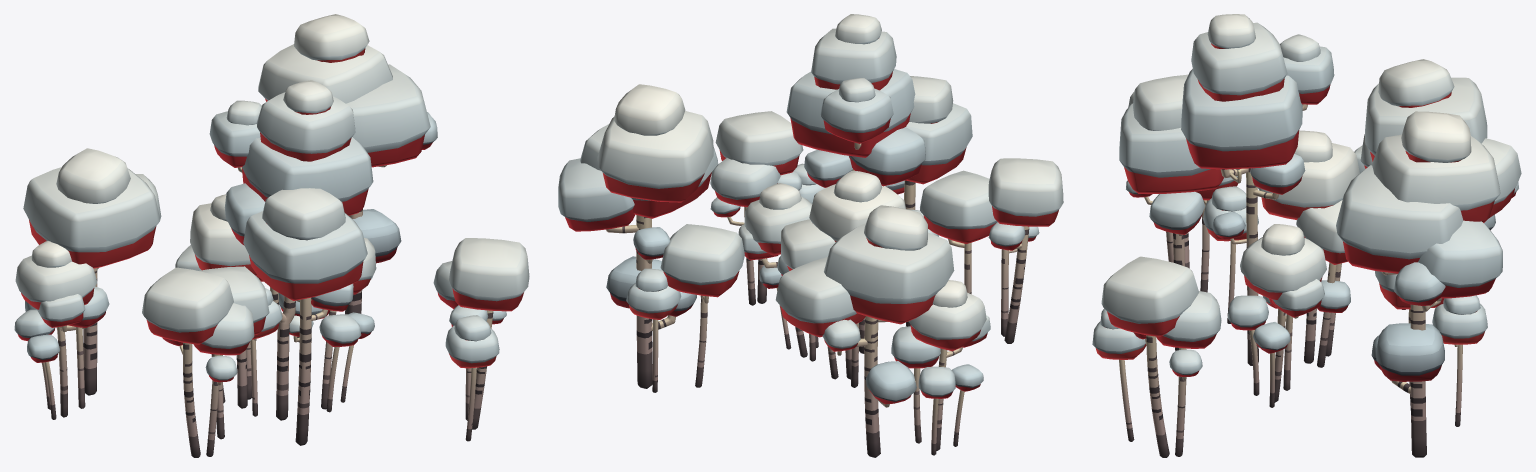
File: birch_tree_group_col3_snow.fbx
The picture shows the model from 3 angles, left to right: view 1: azimuth 30°, elevation 25°; view 2: azimuth 150°, elevation 25°; view 3: azimuth 270°, elevation 25°; orthographic projection. The views are drawn at different scales.
Parts seen in each view (by area): view 1: birch_tree_group_col3_snow; view 2: birch_tree_group_col3_snow; view 3: birch_tree_group_col3_snow.
Boxes of the visible parts, <box> form: birch_tree_group_col3_snow: <box>14,14,529,457</box>; birch_tree_group_col3_snow: <box>558,14,1063,457</box>; birch_tree_group_col3_snow: <box>1092,14,1521,457</box>.
Bounding box in the file's own units: 1697 × 1363 × 1426.
